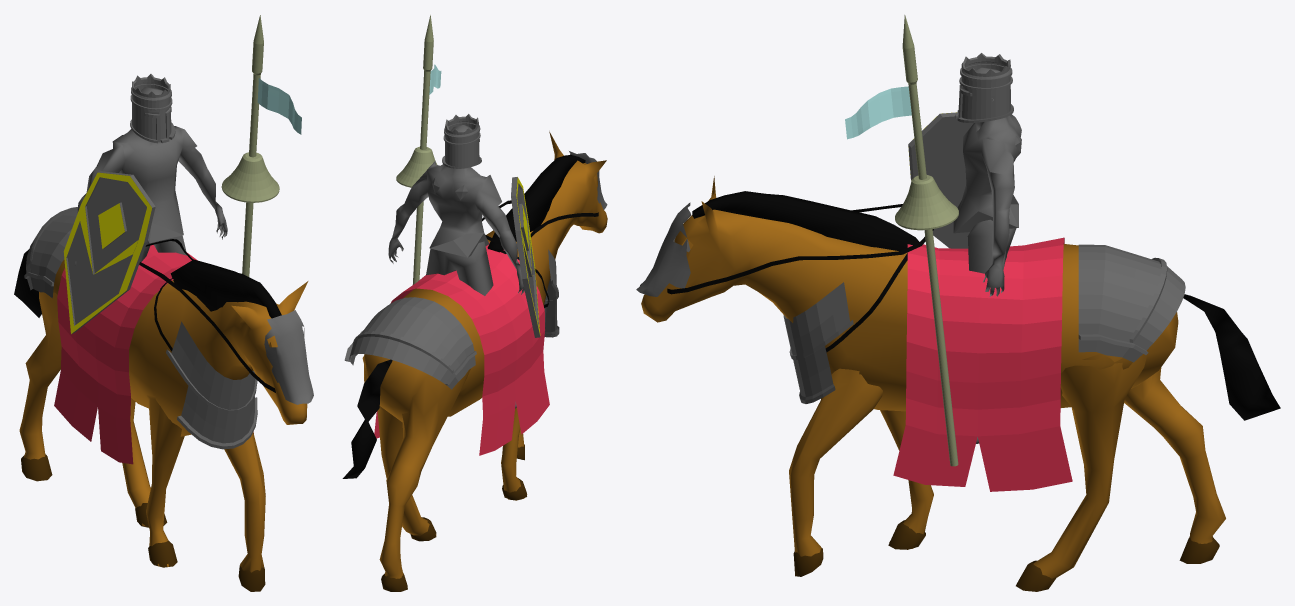
File: Knights.glb
3 views of the same model, side by side, from view 1: azimuth 30°, elevation 25°; view 2: azimuth 150°, elevation 25°; view 3: azimuth 270°, elevation 25° (orthographic). The views are drawn at different scales.
Parts seen in each view (by area): view 1: Knights; view 2: Knights; view 3: Knights.
Boxes of the visible parts, x1=… form: Knights: x1=14, y1=15, x2=313, y2=591; Knights: x1=342, y1=15, x2=607, y2=591; Knights: x1=636, y1=15, x2=1280, y2=591.
Bounding box in the file's own units: 0.8261 × 2.33 × 2.27.
